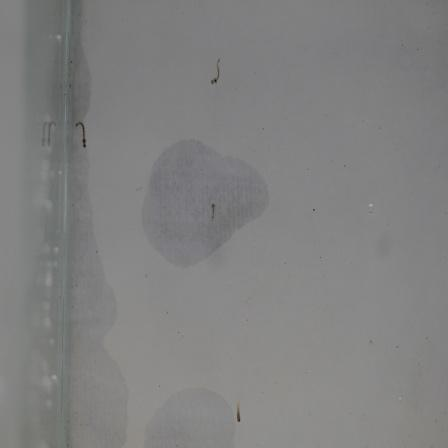Jentik-Nyamuk: (68, 117, 89, 152), (206, 55, 226, 88), (207, 198, 219, 226), (232, 400, 244, 426)
